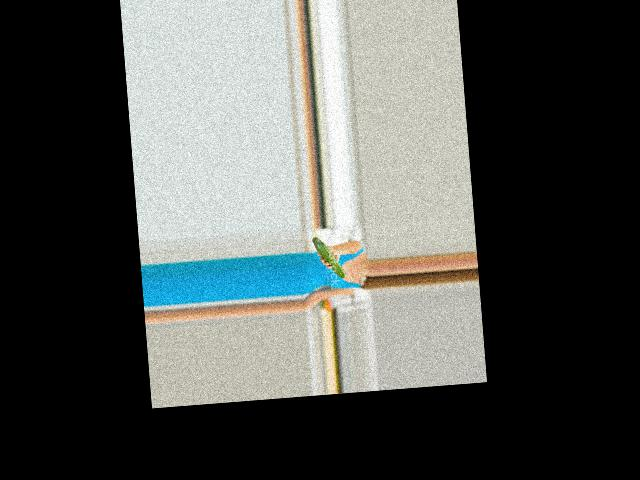cucumber: (311, 235, 345, 280)
